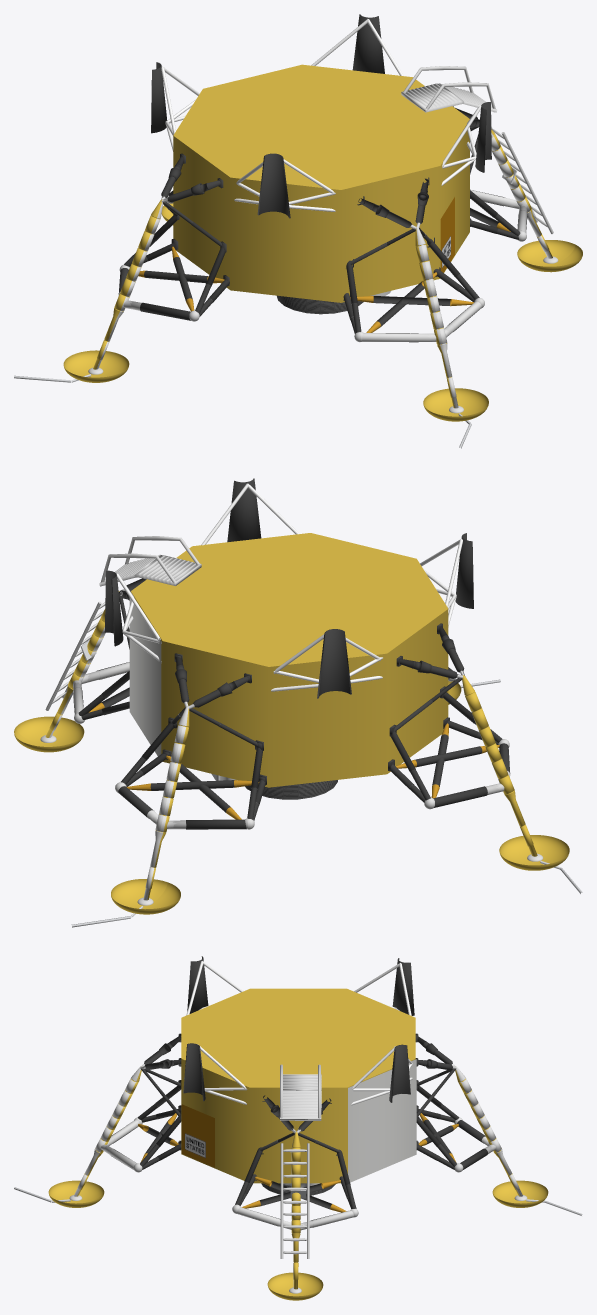
The model's file is apollo11lm.glb.
The picture shows the model from 3 angles, top to bottom: view 1: azimuth 30°, elevation 25°; view 2: azimuth 150°, elevation 25°; view 3: azimuth 270°, elevation 25°; orthographic projection. The views are drawn at different scales.
Visible parts, largest first — view 1: descent-stage-body, landing-legs, ascent-stage-launchpad, ladder-porch, descent-engine; view 2: descent-stage-body, landing-legs, ascent-stage-launchpad, equipment-bay, ladder-porch, descent-engine; view 3: descent-stage-body, landing-legs, ascent-stage-launchpad, equipment-bay, ladder-porch.
Boxes of the visible parts, box(x1,y1,x2,y2) form: descent-stage-body: box(124, 64, 520, 333); landing-legs: box(63, 129, 582, 421); ascent-stage-launchpad: box(151, 14, 491, 229); ladder-porch: box(401, 66, 553, 233); descent-engine: box(277, 295, 363, 314); descent-stage-body: box(78, 533, 502, 820); landing-legs: box(14, 591, 569, 914); ascent-stage-launchpad: box(104, 478, 473, 708); equipment-bay: box(129, 598, 161, 756); ladder-porch: box(45, 536, 201, 710); descent-engine: box(245, 780, 337, 799); descent-stage-body: box(137, 988, 459, 1212); landing-legs: box(48, 1066, 548, 1300); ascent-stage-launchpad: box(140, 956, 456, 1133); equipment-bay: box(348, 1059, 416, 1182); ladder-porch: box(280, 1064, 321, 1258).
Bounding box in the file's own units: 9.96 × 4.09 × 10.61.
Materials: 13 (3 with a texture image).
